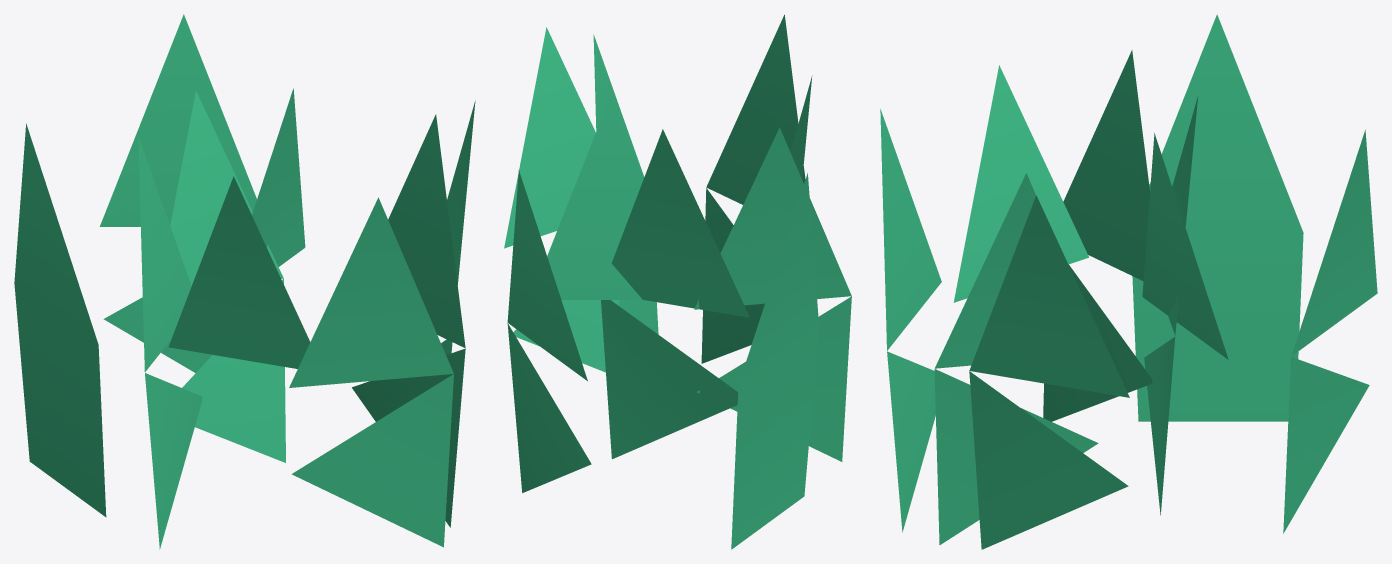
File: Unmowed_High_030_3.glb
3 views of the same model, side by side, from view 1: azimuth 30°, elevation 25°; view 2: azimuth 150°, elevation 25°; view 3: azimuth 270°, elevation 25° (orthographic). The views are drawn at different scales.
Parts seen in each view (by area): view 1: Mowed Grass High LOD; view 2: Mowed Grass High LOD; view 3: Mowed Grass High LOD.
Boxes of the visible parts, bbox=[...] form: Mowed Grass High LOD: bbox=[14, 14, 475, 549]; Mowed Grass High LOD: bbox=[504, 14, 851, 549]; Mowed Grass High LOD: bbox=[880, 14, 1377, 549].
Bounding box in the file's own units: 0.3814 × 0.38 × 0.4428.
